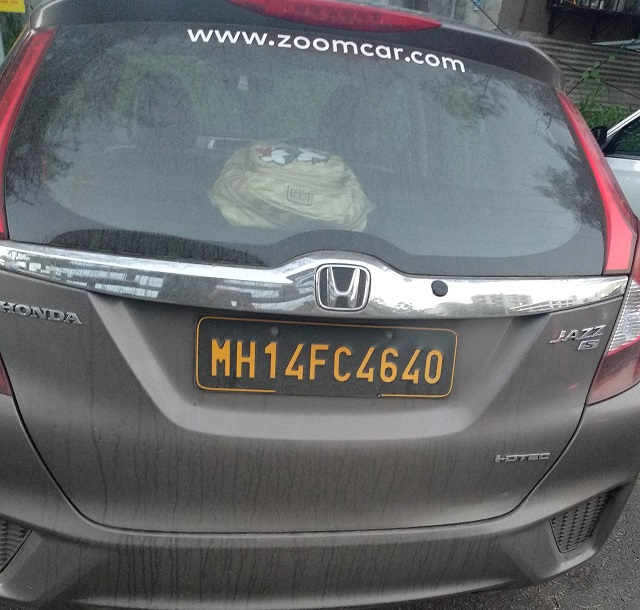licenseplate: (196, 309, 460, 409)
